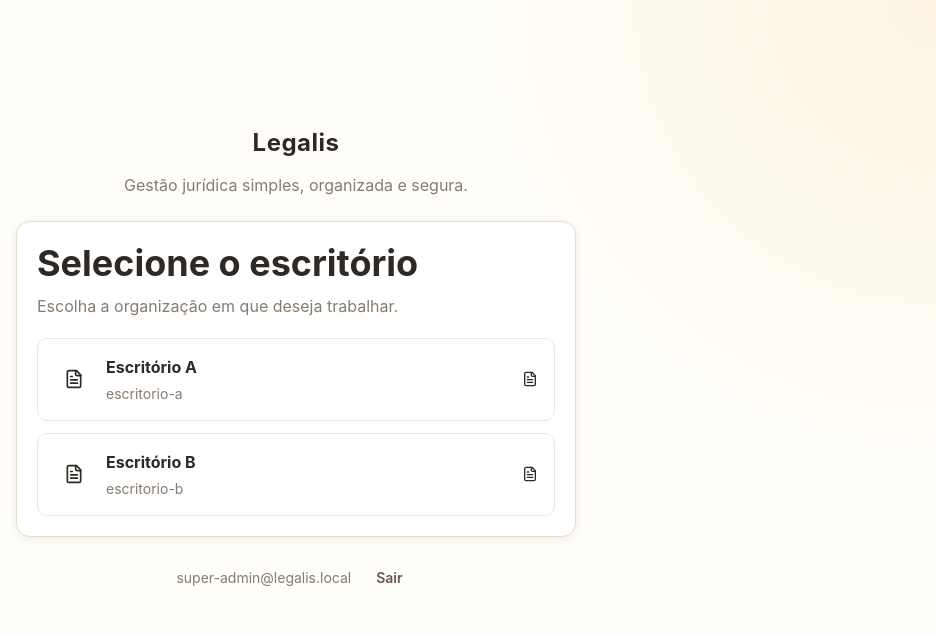
OrganizationSelectPage › exibe erro quando seleção falha
Click the button with class "organization-select-page__organization" showing "Escritório A escritorio-a": (152, 367) [37,338,555,421]
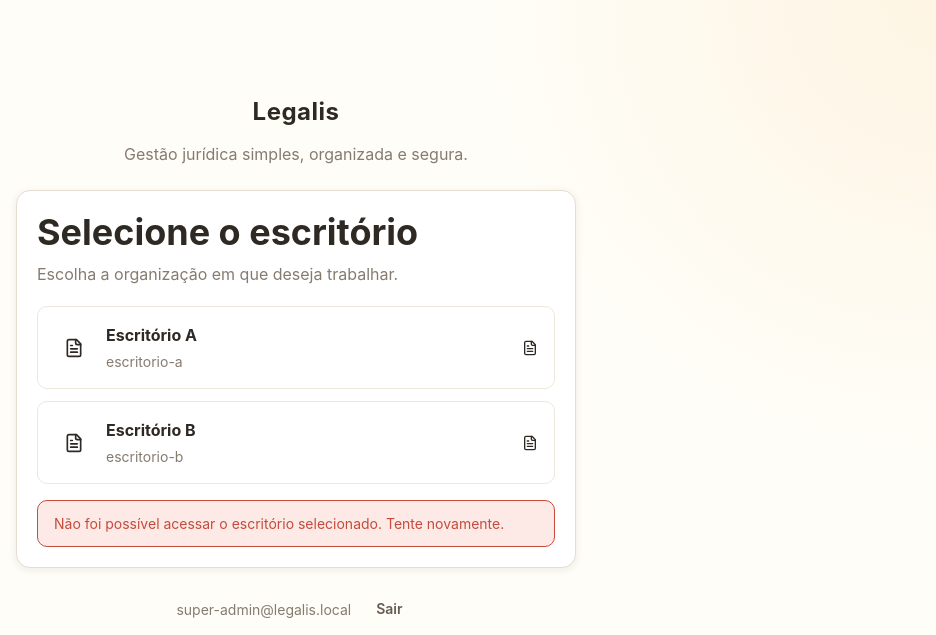
Check: the text "Não foi possível acessar o escritório selecionado. Tente novamente." is shown, box [37,500,555,547]
